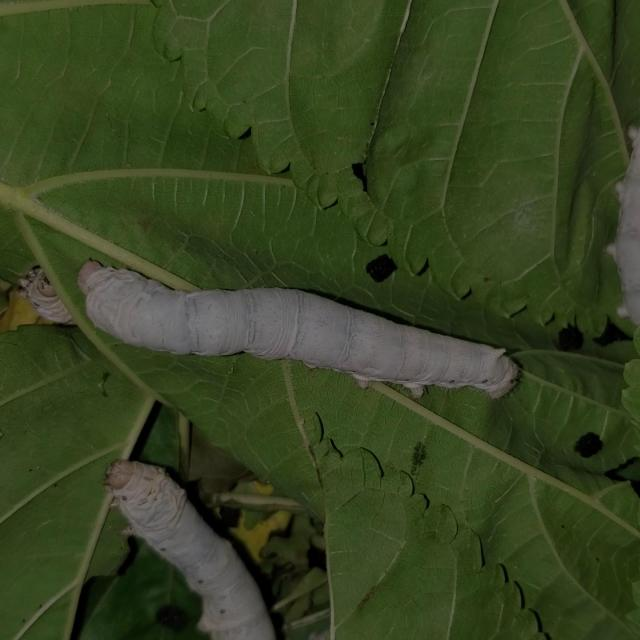Healthy: (62, 228, 524, 428)
